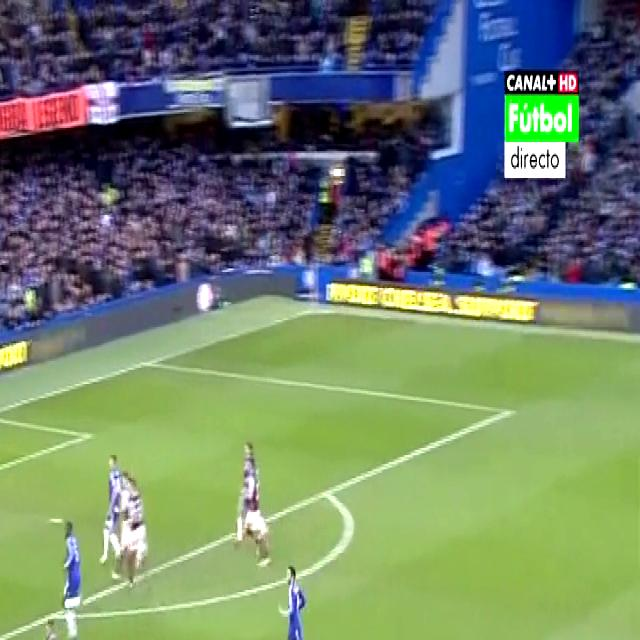soccer-player: (228, 433, 274, 577), (274, 551, 333, 640), (112, 462, 150, 598), (52, 510, 89, 640), (99, 440, 131, 577), (29, 617, 72, 640)
